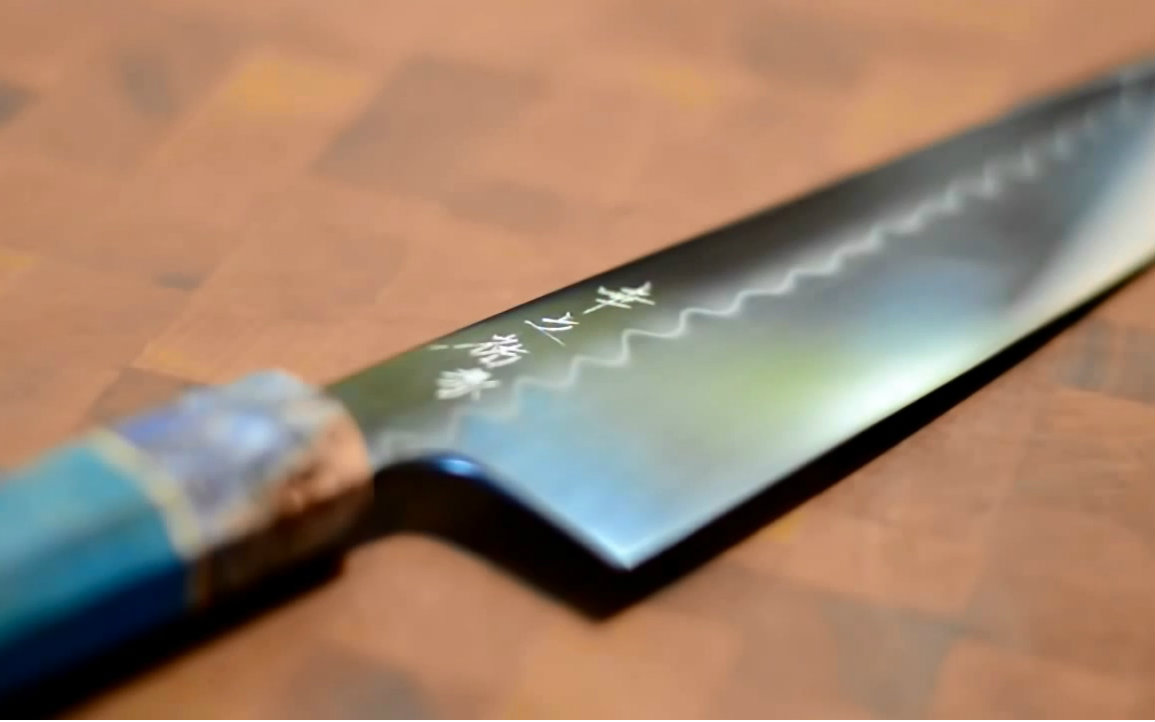knief: (308, 19, 1150, 657)
